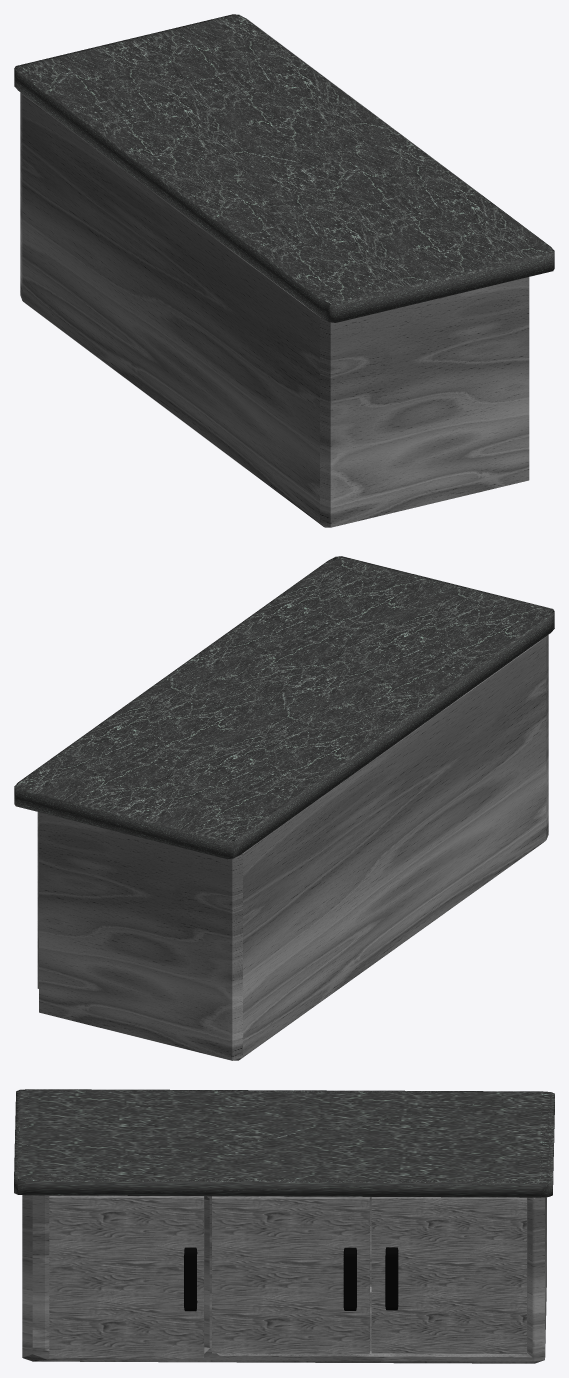
The model's file is LOWER_KITCHEN_CABINET.glb.
3 renders of one model, top to bottom at view 1: azimuth 30°, elevation 25°; view 2: azimuth 150°, elevation 25°; view 3: azimuth 270°, elevation 25°, orthographic. The views are drawn at different scales.
Visible parts, largest first — view 1: BODY_Cube.012, BAR_Cube.013; view 2: BODY_Cube.012, BAR_Cube.013; view 3: BAR_Cube.013, DOOR_Cube.016, RIGHT_DOOR_Cube.014, LEFT_DOOR_Cube.015, BODY_Cube.012.
Part boxes in pixels (bbox=[...]): BODY_Cube.012: bbox=[20, 92, 529, 527]; BAR_Cube.013: bbox=[14, 14, 554, 322]; BODY_Cube.012: bbox=[39, 635, 548, 1060]; BAR_Cube.013: bbox=[14, 556, 554, 859]; BAR_Cube.013: bbox=[14, 1089, 554, 1197]; DOOR_Cube.016: bbox=[49, 1195, 204, 1358]; RIGHT_DOOR_Cube.014: bbox=[212, 1196, 369, 1353]; LEFT_DOOR_Cube.015: bbox=[371, 1197, 527, 1353]; BODY_Cube.012: bbox=[22, 1195, 546, 1363].
Bounding box in the file's own units: 0.8991 × 0.8432 × 2.17.
8 materials, 5 textured.
